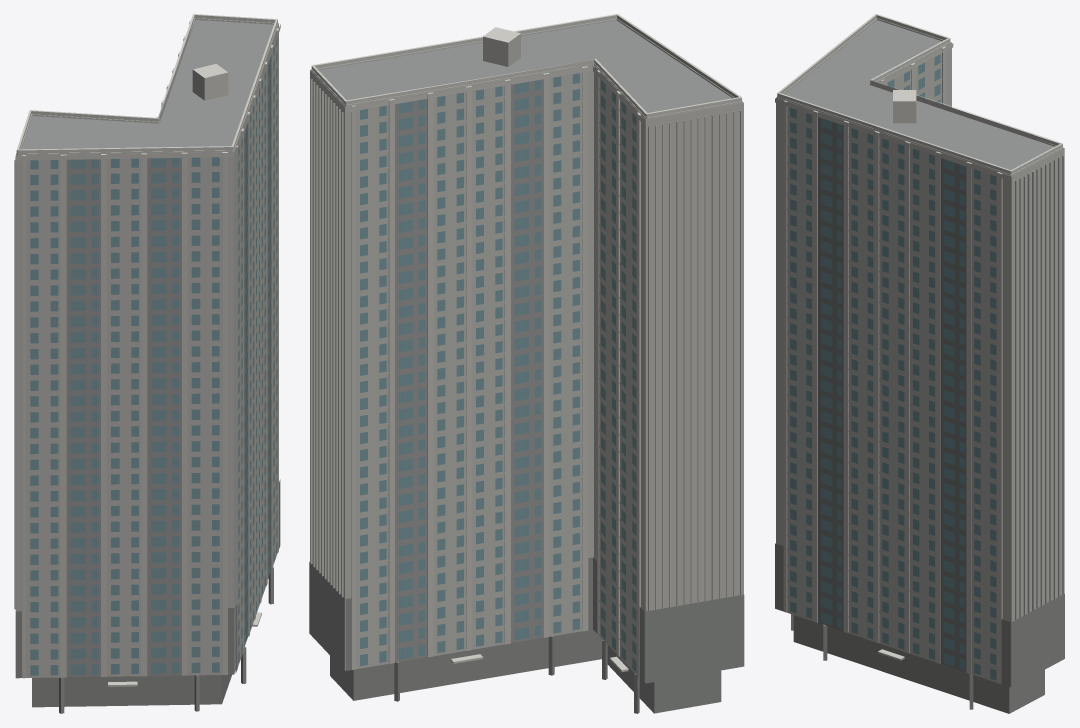
File: maple-xi-202.glb
3 views of the same model, side by side, from view 1: azimuth 30°, elevation 25°; view 2: azimuth 150°, elevation 25°; view 3: azimuth 270°, elevation 25° (orthographic). The views are drawn at different scales.
Parts seen in each view (by area): view 1: maple-xi-202; view 2: maple-xi-202; view 3: maple-xi-202.
Boxes of the visible parts, box(x1,y1,x2,y2) form: maple-xi-202: box(14, 14, 280, 713); maple-xi-202: box(309, 14, 744, 713); maple-xi-202: box(775, 14, 1064, 713).
Size of the model in its own units: 68.16 by 113 by 52.53.
